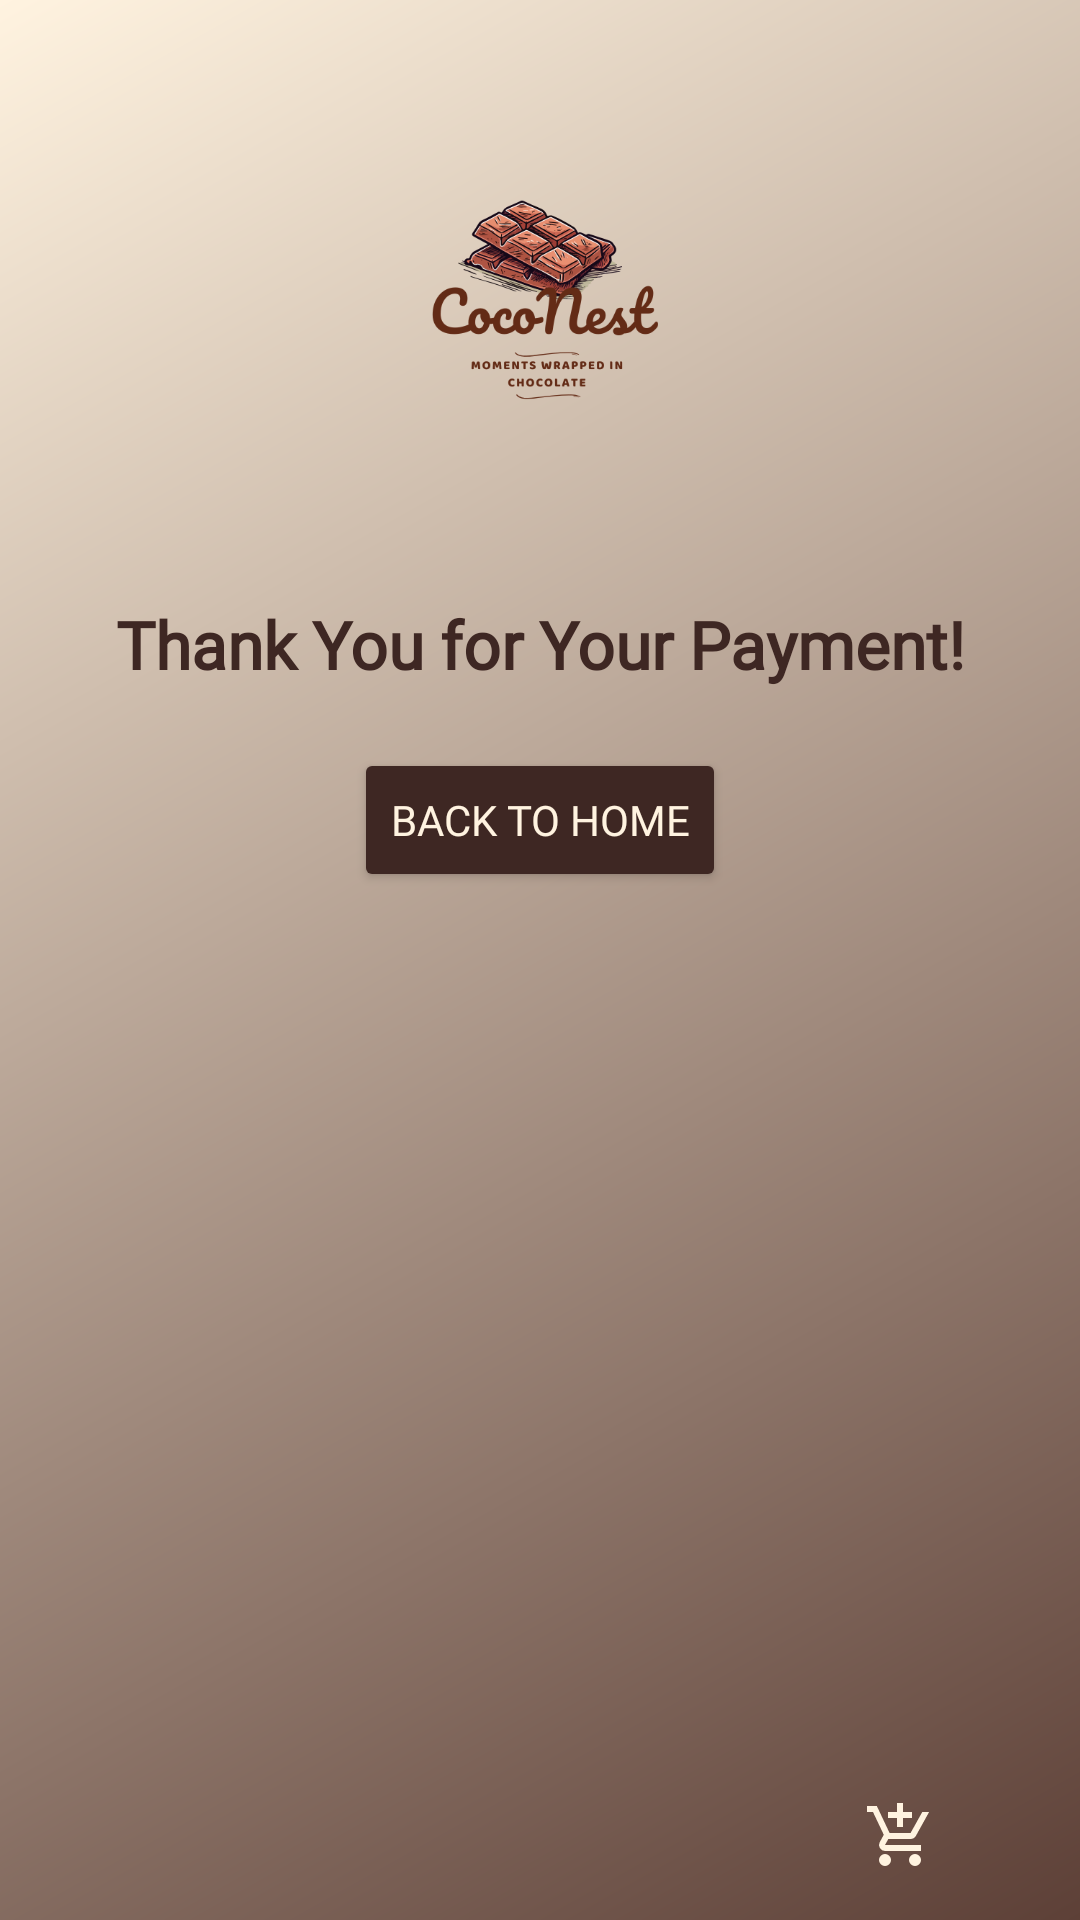

Icon click points for this 1080*1920 phone screenshot, format (x=x, y=y):
cart: (x=898, y=1834)
